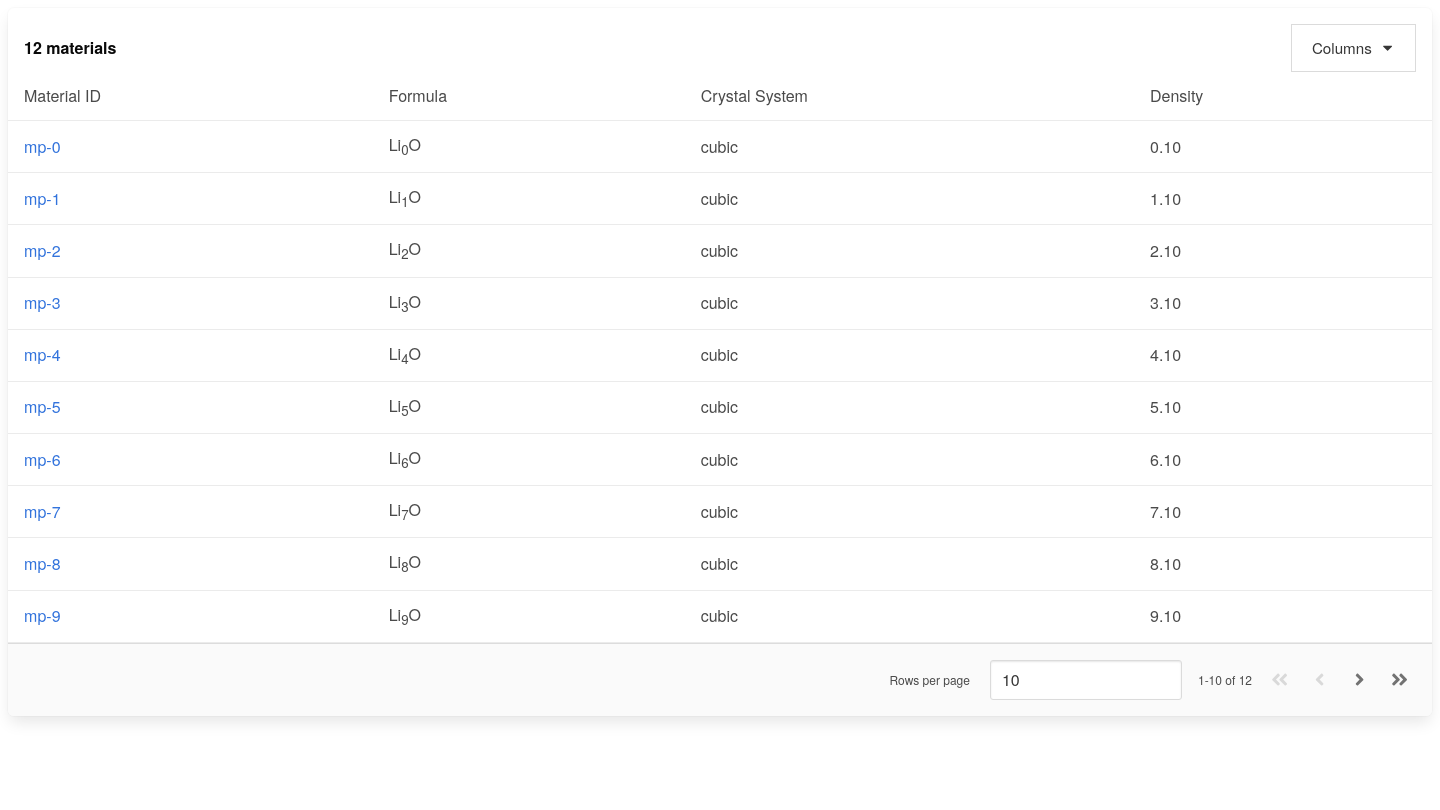
Test case: DataTable › supports pagination and header rendering
The image size is (1440, 810).
expect the text "12 materials" is shown: met, box [24,39,116,57]
expect the text "1-10 of 12" is shown: met, box [1198,671,1252,689]
Click the button named "Next page" at (1360, 680), box [1344,664,1376,696]
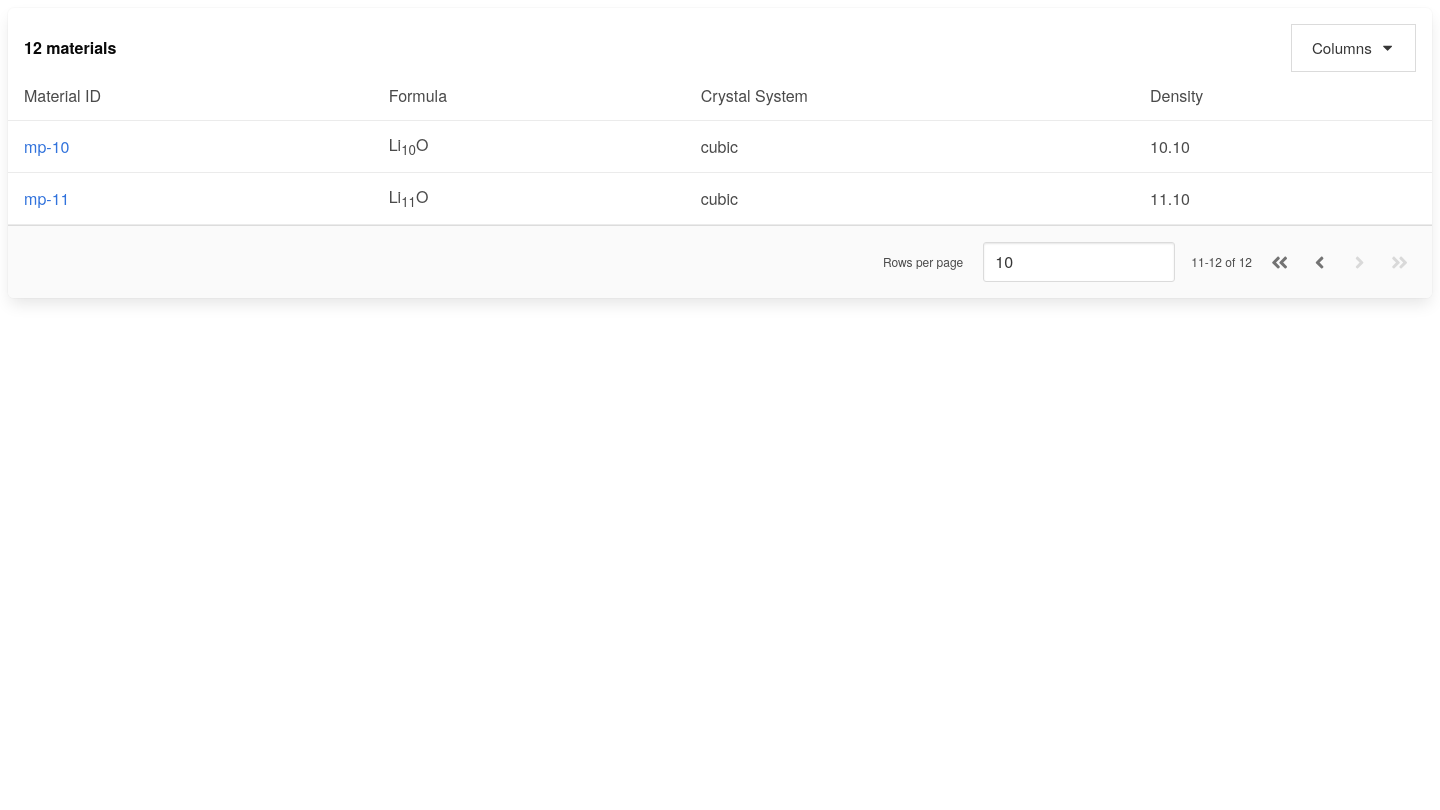
expect the text "11-12 of 12" is shown: met, box [1191,253,1252,271]
